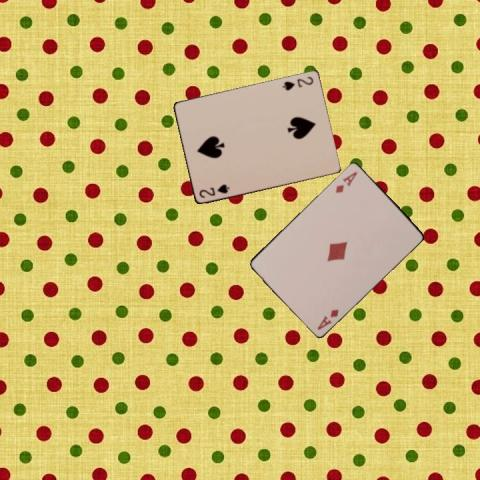2s: (279, 74, 315, 92), (196, 182, 231, 199)
Ad: (332, 168, 359, 194), (314, 306, 340, 331)
